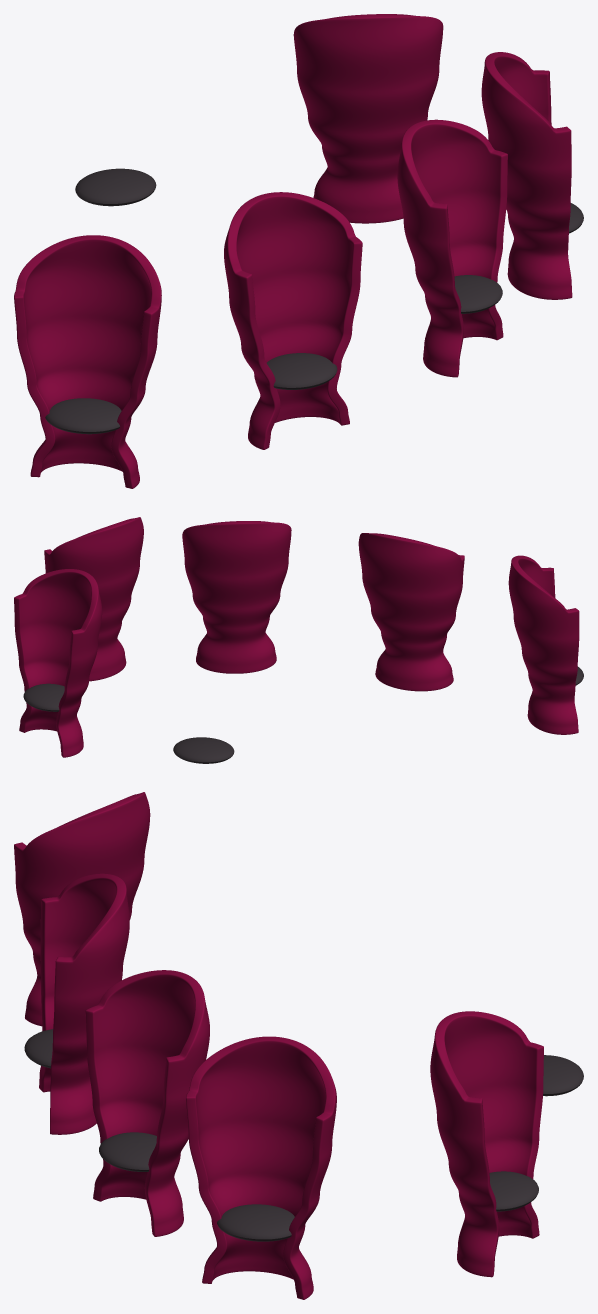
File: SM_L1_Furniture_Solid_0f4e0cbe73_0.fbx
3 views of the same model, one above another, from view 1: azimuth 30°, elevation 25°; view 2: azimuth 150°, elevation 25°; view 3: azimuth 270°, elevation 25° (orthographic). The views are drawn at different scales.
Visible parts, largest first — view 1: SM_L1_Furniture_Solid_0f4e0cbe73_0; view 2: SM_L1_Furniture_Solid_0f4e0cbe73_0; view 3: SM_L1_Furniture_Solid_0f4e0cbe73_0.
Part boxes in pixels (<box>): SM_L1_Furniture_Solid_0f4e0cbe73_0: <box>14,14,583,488</box>; SM_L1_Furniture_Solid_0f4e0cbe73_0: <box>14,517,583,763</box>; SM_L1_Furniture_Solid_0f4e0cbe73_0: <box>14,792,583,1299</box>.
Bounding box in the file's own units: 4.9 × 3.7 × 1.6.
